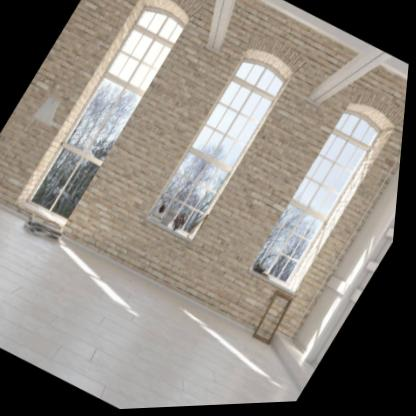Window: (11, 0, 203, 236), (136, 36, 309, 260), (246, 95, 406, 306)
